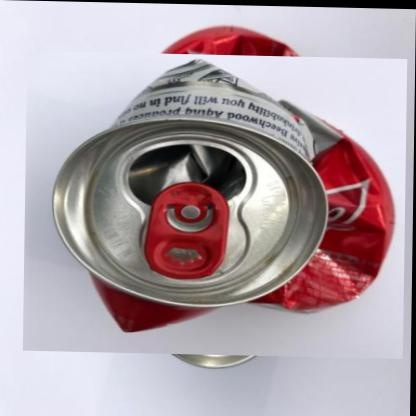trash: (53, 60, 393, 331), (254, 101, 393, 310), (163, 26, 297, 55)
